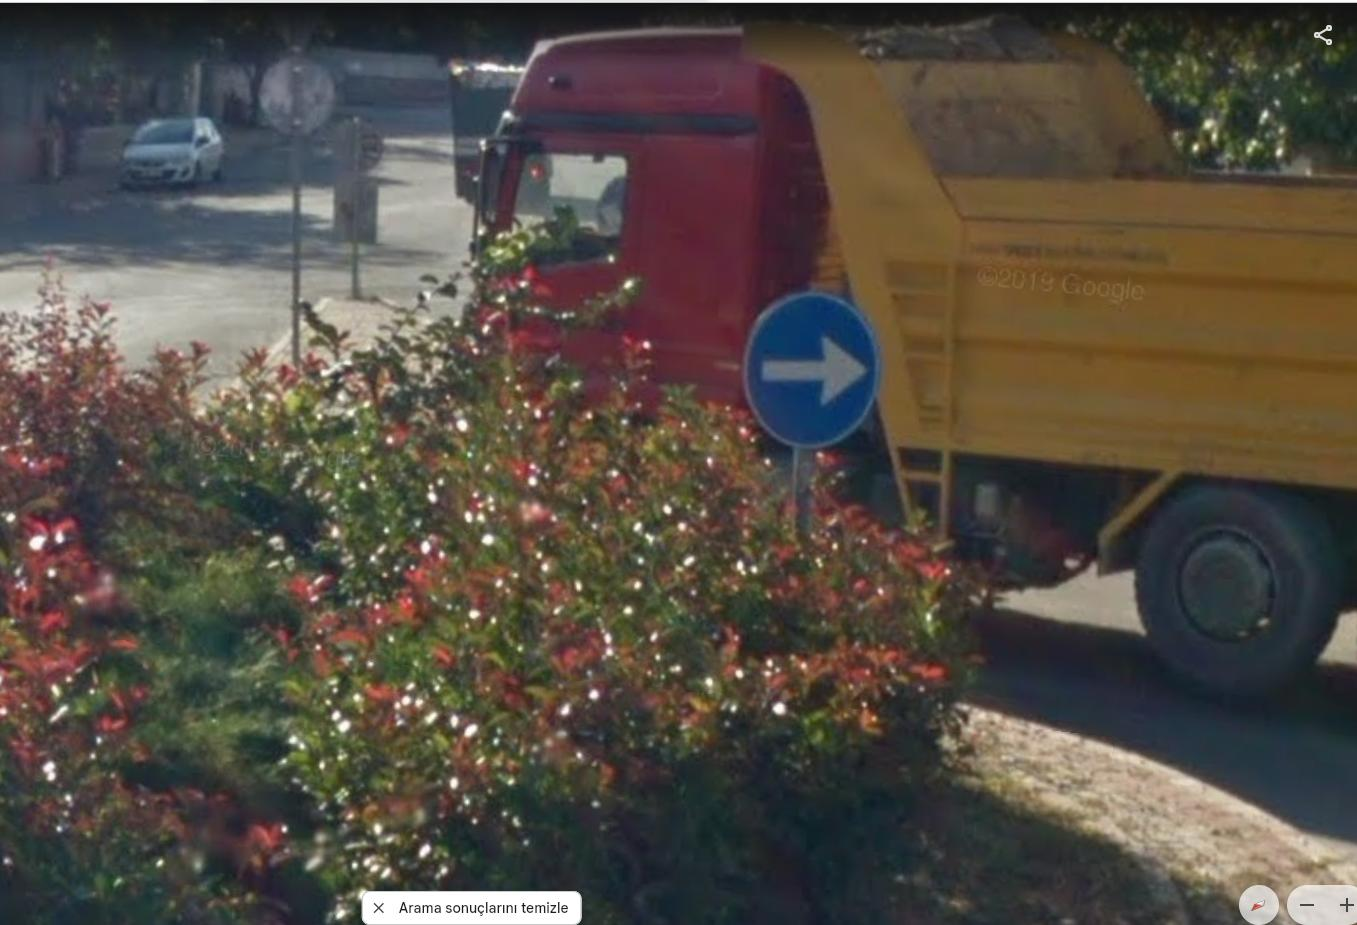turnright: (751, 297, 881, 442)
